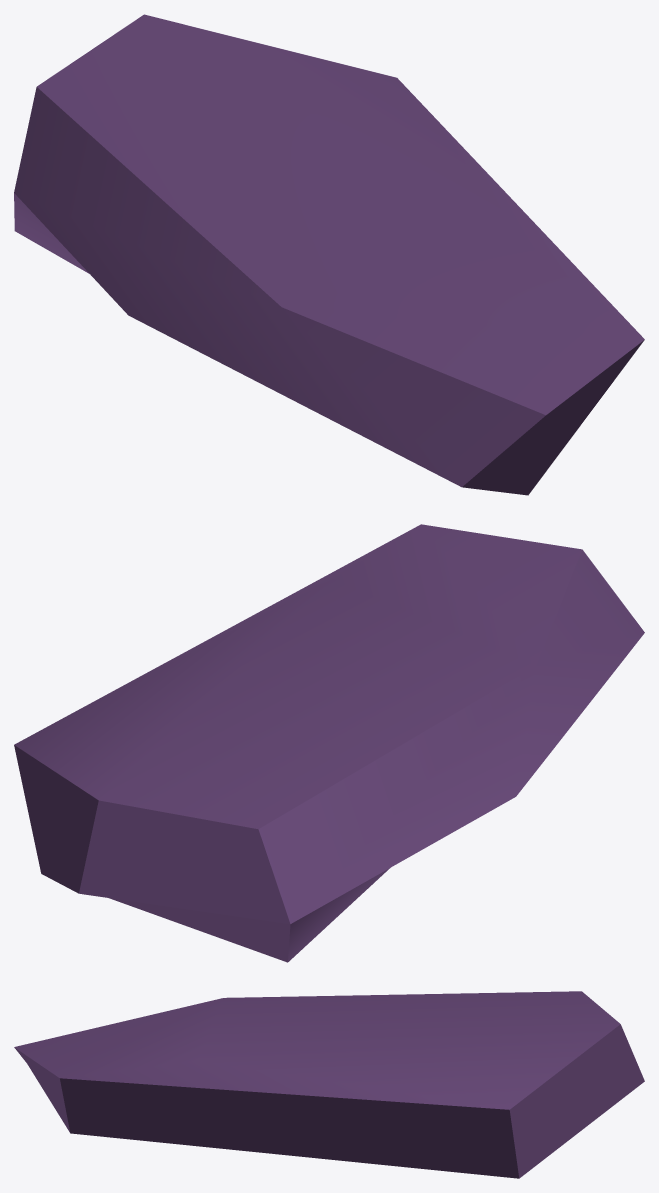
File: Rock_007.fbx
3 renders of one model, top to bottom at view 1: azimuth 30°, elevation 25°; view 2: azimuth 150°, elevation 25°; view 3: azimuth 270°, elevation 25°, orthographic. The views are drawn at different scales.
Visible parts, largest first — view 1: Rock_007; view 2: Rock_007; view 3: Rock_007.
Boxes of the visible parts, left/top/right/bottom form: Rock_007: left=14, top=14, right=644, bottom=495; Rock_007: left=14, top=524, right=644, bottom=962; Rock_007: left=14, top=991, right=644, bottom=1178.
Size of the model in its own units: 4.02 by 1.7 by 8.28.
